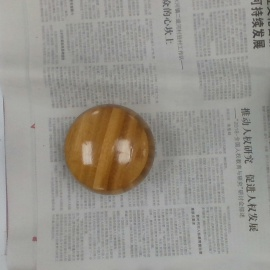chess: (64, 104, 155, 196)
